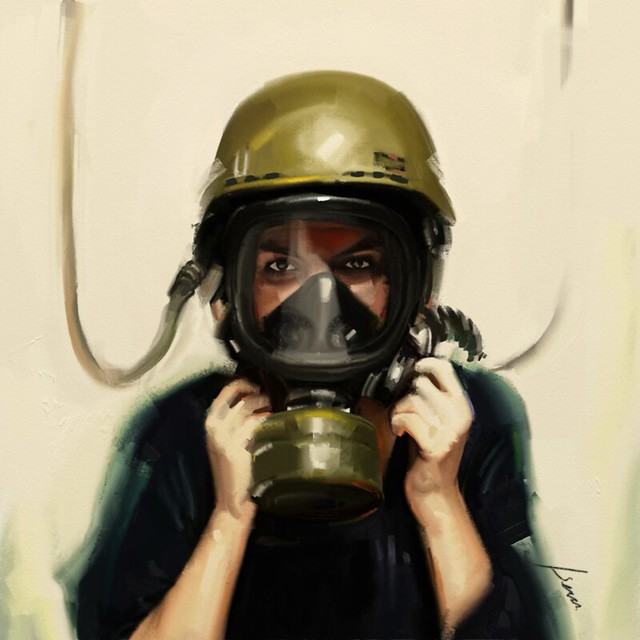helmet: (199, 78, 440, 437)
